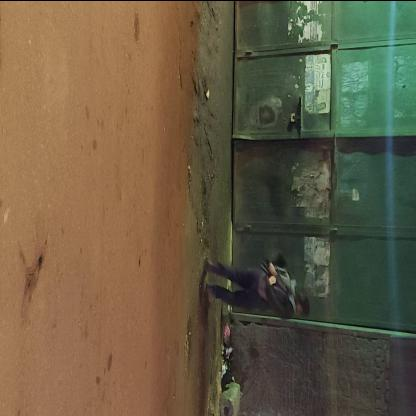long weapon: (260, 255, 298, 299)
